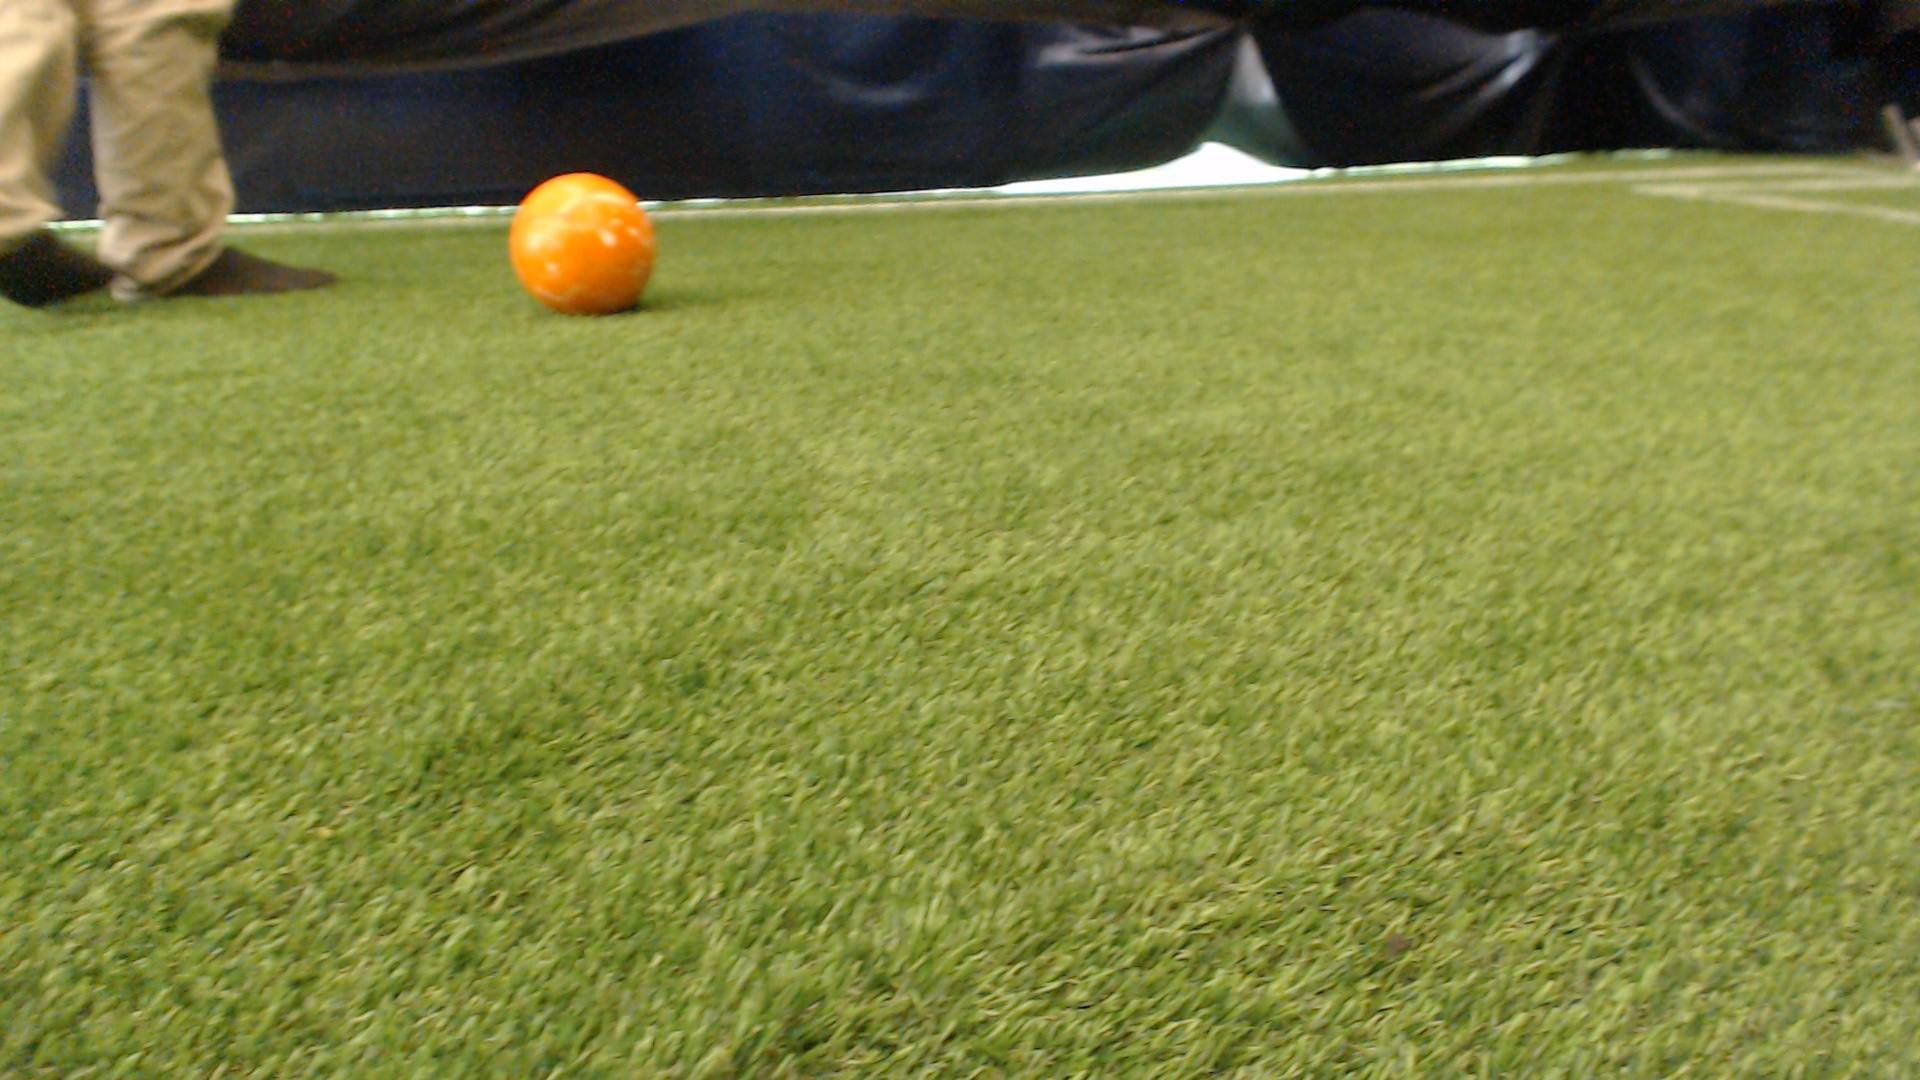bola: (495, 160, 674, 326)
